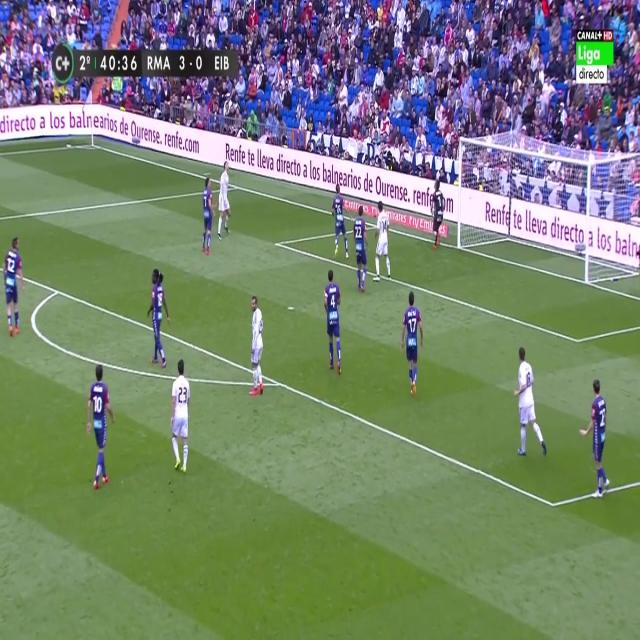Goalkeeper: (429, 178, 445, 252)
Player: (84, 362, 117, 498), (511, 345, 549, 460), (577, 378, 612, 500), (399, 291, 426, 399), (146, 265, 173, 370), (170, 358, 192, 478), (2, 236, 25, 341), (323, 266, 344, 377), (249, 295, 265, 403), (372, 202, 392, 284), (330, 183, 350, 261), (353, 204, 369, 295), (218, 160, 234, 244), (200, 175, 216, 258)
